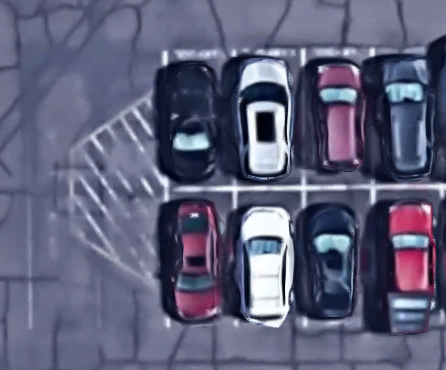Occupied: (163, 48, 235, 190), (164, 190, 237, 326), (304, 49, 374, 187), (235, 188, 305, 326), (304, 187, 373, 327), (235, 49, 304, 188), (373, 49, 442, 187), (374, 187, 442, 326)
